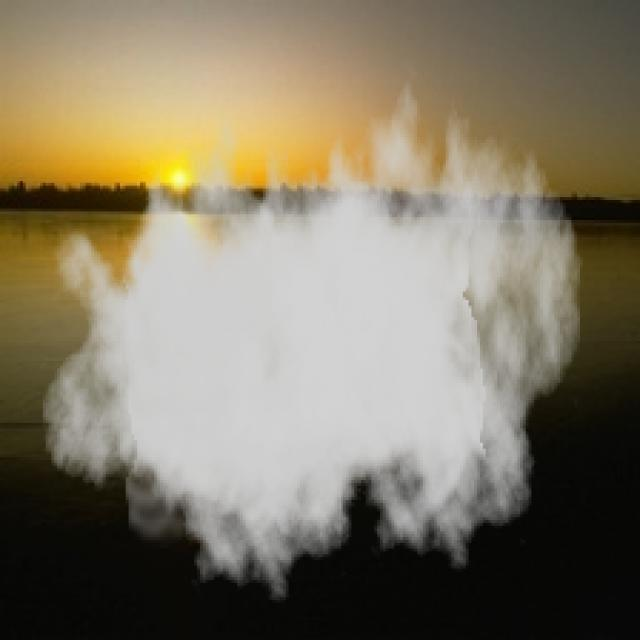Smoke: (40, 57, 583, 612)
